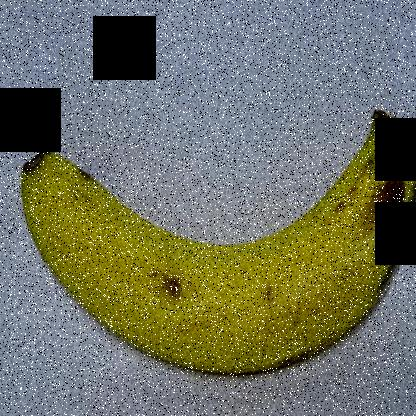freshripe: (10, 97, 415, 395)
